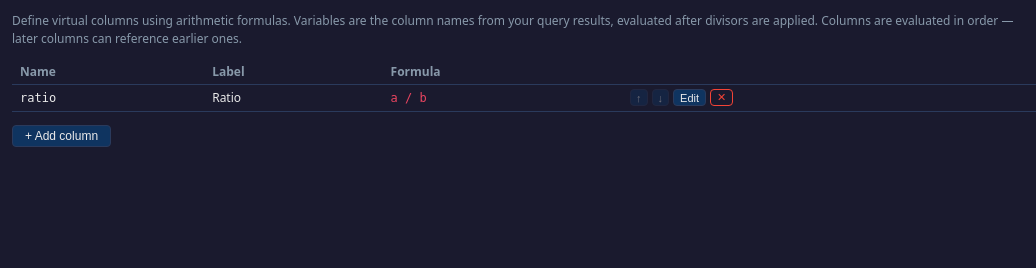
Test: ComputedColumnsEditor — existing defs › clicking Edit opens the form with existing values
Click the button "Edit".
click(690, 98)  # box [673,89,706,106]
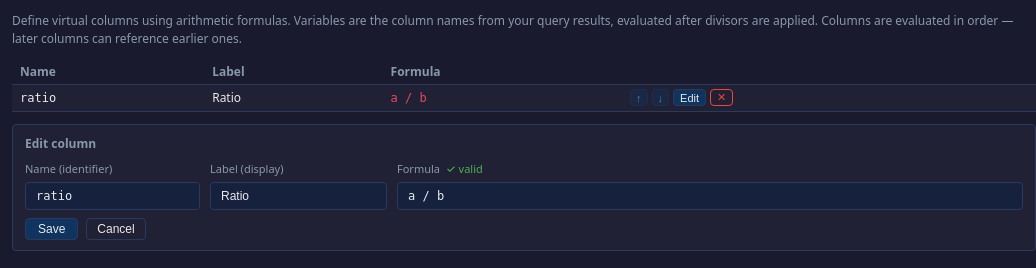
Now the field with placeholder "e.g. price_ratio" below "(identifier)" holds "ratio", box [25,182,200,210]
